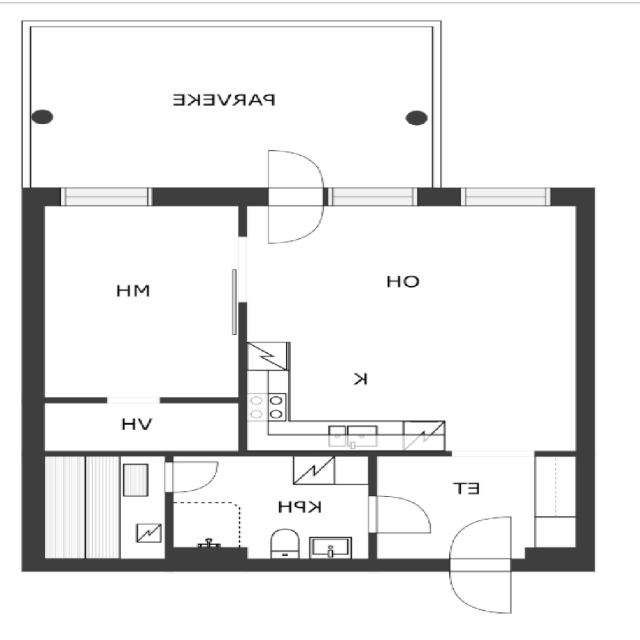door: (439, 511, 524, 618), (254, 143, 332, 249), (362, 489, 441, 542), (156, 454, 227, 497)
window: (445, 178, 566, 214), (48, 178, 166, 212), (322, 179, 431, 213), (223, 230, 262, 311), (442, 447, 551, 461), (96, 392, 172, 410)
zone: (241, 198, 597, 459), (15, 25, 426, 189), (36, 197, 244, 400), (367, 453, 588, 562), (166, 450, 380, 562), (33, 452, 168, 565)
